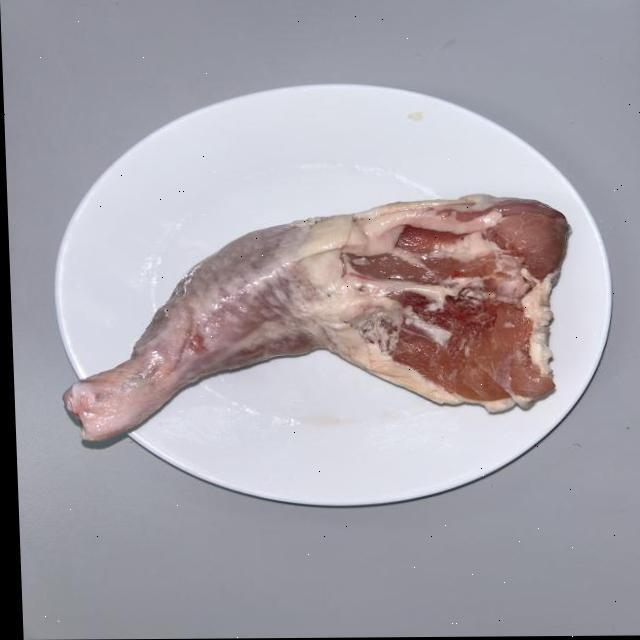quater: (62, 206, 558, 469)
